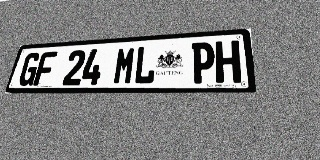2: (62, 49, 87, 85)
4: (80, 48, 105, 85)
F: (33, 51, 57, 86)
G: (17, 52, 42, 86)
H: (215, 40, 241, 83)
L: (133, 45, 157, 84)
M: (112, 46, 137, 85)
P: (191, 42, 215, 83)
